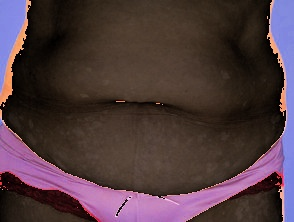vitiligo: (0, 33, 294, 213), (215, 179, 289, 221)
